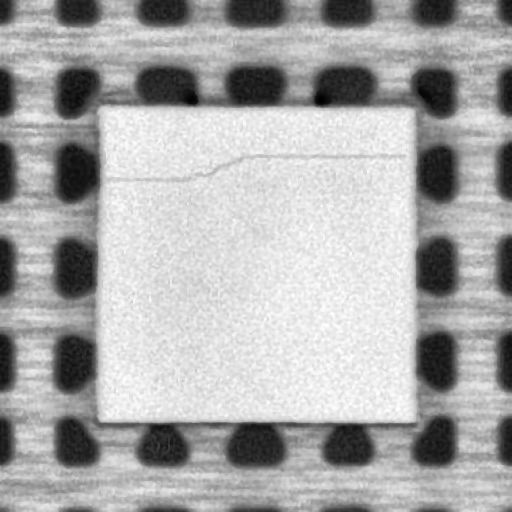DIE_CRACK: (106, 146, 409, 184)
